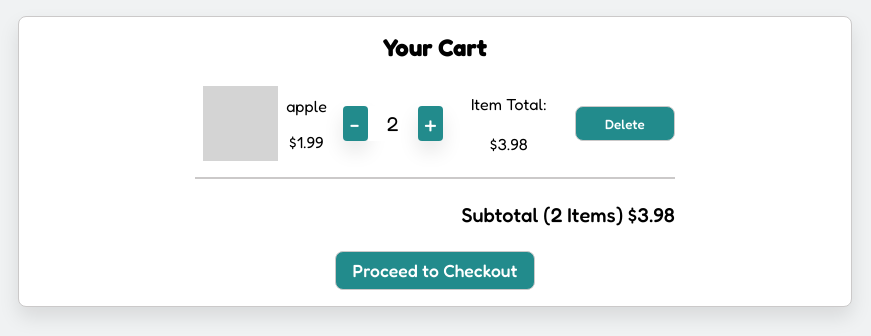
Scenario: CartPage › increases and decreases item quantity in cart
The image size is (871, 336).
Check: the text named "Quantity" reads "2", box top-left (387, 112), bottom-right (399, 136)
Click the button "+".
click(430, 124)  # box top-left (418, 106), bottom-right (443, 141)
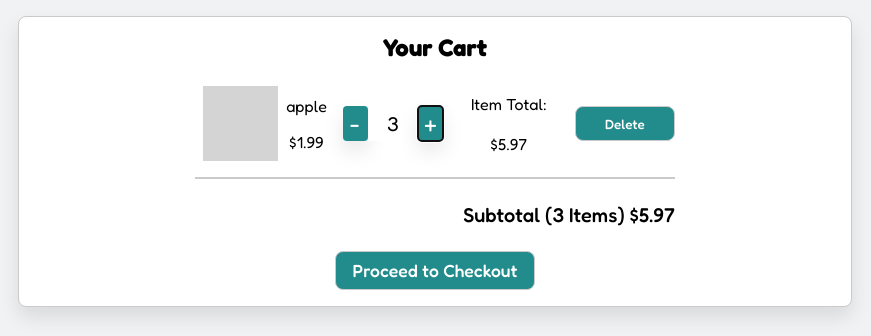
Check: the text named "Quantity" reads "3", box top-left (387, 112), bottom-right (399, 136)
Click the button "-".
click(355, 124)  # box top-left (343, 106), bottom-right (368, 141)
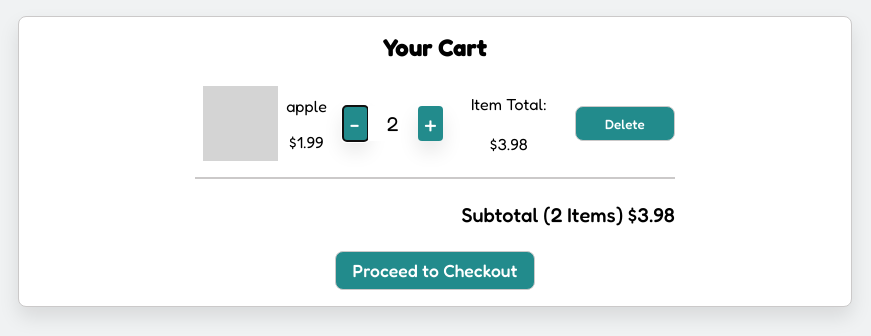
Check: the text named "Quantity" reads "2", box top-left (387, 112), bottom-right (399, 136)
